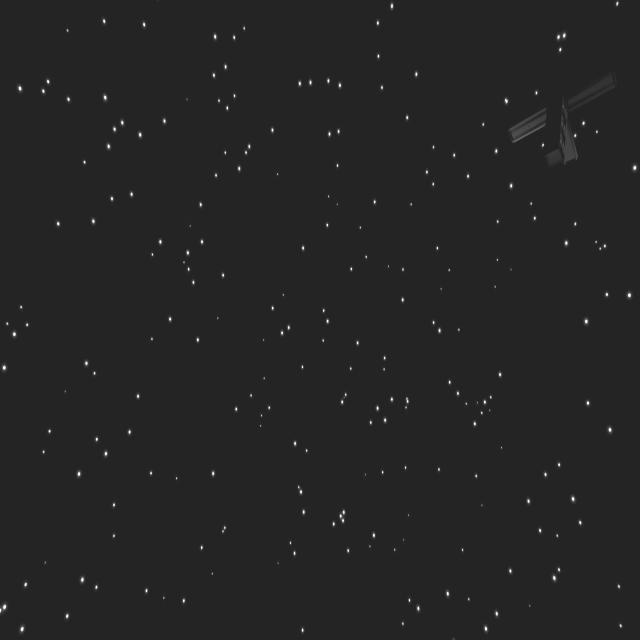medium_debris: (499, 65, 612, 168)
